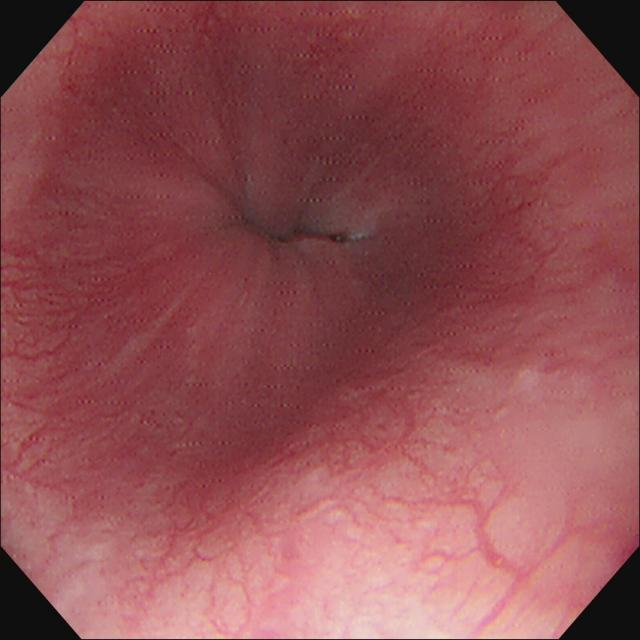I: (194, 138, 391, 307)
